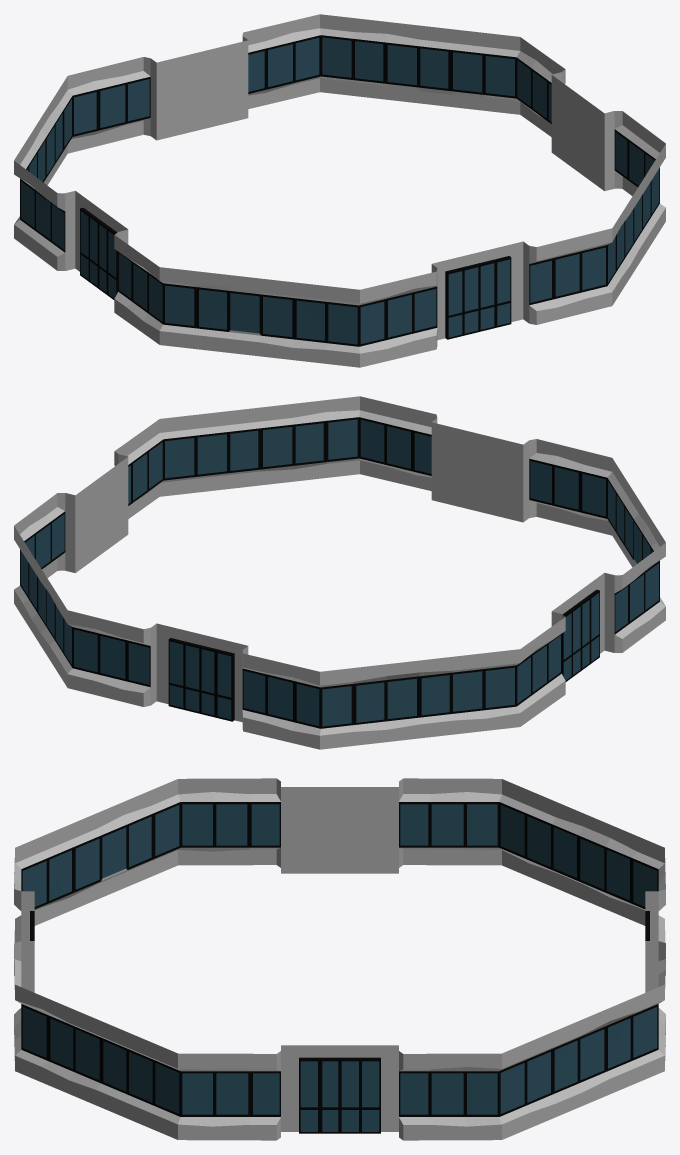
Rendered from Apt2_Floor.fbx.
3 views of the same model, one above another, from view 1: azimuth 30°, elevation 25°; view 2: azimuth 150°, elevation 25°; view 3: azimuth 270°, elevation 25° (orthographic). The views are drawn at different scales.
Parts seen in each view (by area): view 1: Floor Main, Windows 1, Frame 1, Windows 2, Frame 2; view 2: Floor Main, Windows 1, Frame 1, Windows 2, Frame 2; view 3: Floor Main, Windows 1, Frame 1, Windows 2, Frame 2.
Part boxes in pixels (bbox=[...]): Floor Main: bbox=[14, 14, 665, 367]; Windows 1: bbox=[21, 37, 659, 344]; Frame 1: bbox=[20, 35, 659, 346]; Windows 2: bbox=[80, 211, 510, 337]; Frame 2: bbox=[80, 207, 511, 339]; Floor Main: bbox=[14, 396, 665, 749]; Windows 1: bbox=[20, 419, 658, 726]; Frame 1: bbox=[20, 417, 659, 728]; Windows 2: bbox=[169, 593, 599, 719]; Frame 2: bbox=[168, 589, 599, 721]; Floor Main: bbox=[14, 778, 665, 1140]; Windows 1: bbox=[22, 804, 657, 1114]; Frame 1: bbox=[21, 802, 658, 1116]; Windows 2: bbox=[300, 1061, 379, 1131]; Frame 2: bbox=[30, 911, 649, 1133].
Bounding box in the file's own units: 1848 × 271 × 1848.
